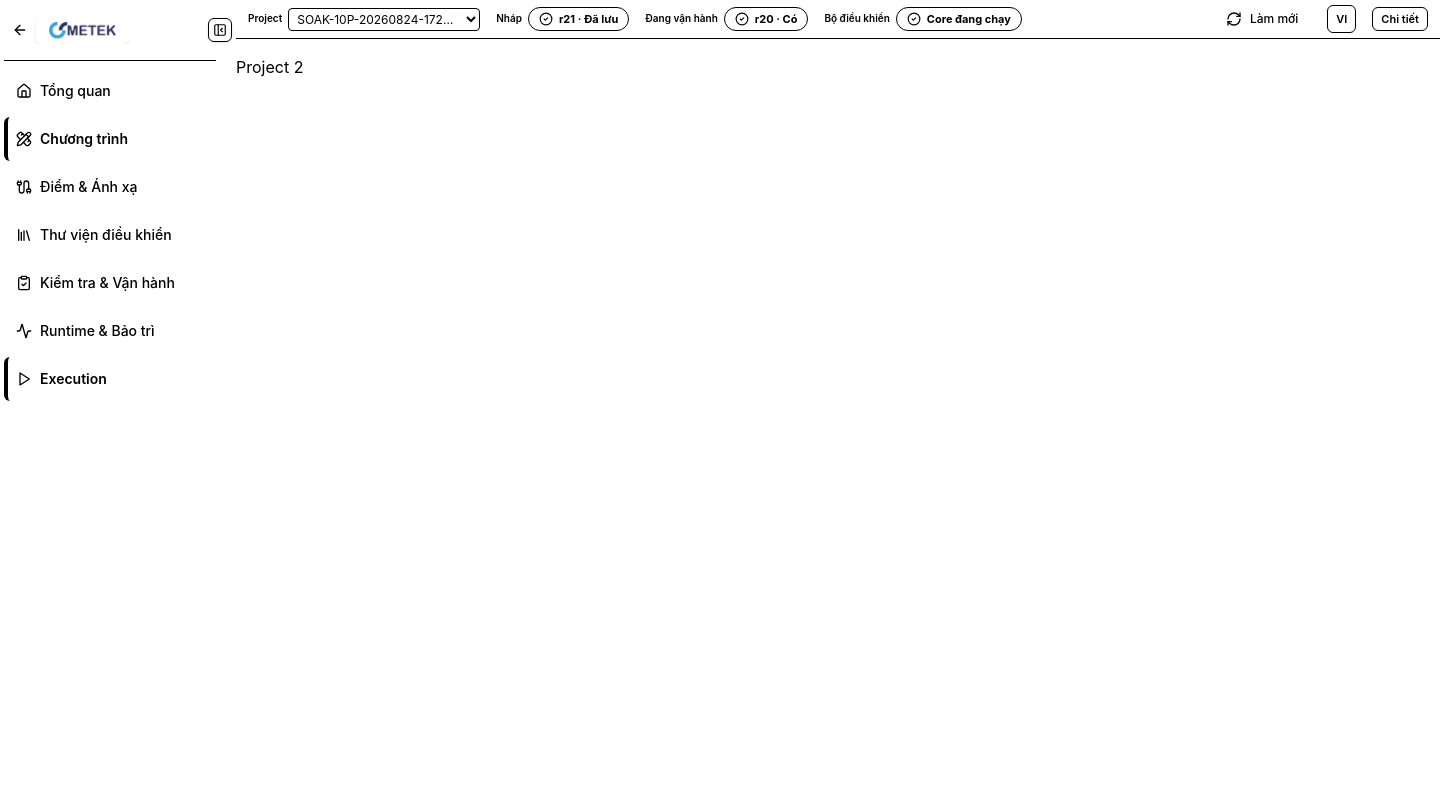
ProgrammingLayout — ISS-PGUI-01 › mở ĐÚNG Project đang chạy ⇒ giữ nguyên số hiệu và UUID như cũ
Check: the element with test id "programming-context-strip-row" is shown, box [248,0,1428,38]
Check: the element showing "Đang vận hành r20 · Có" is shown, box [645,7,808,31]
Click the button "Chi tiết": (1400, 19) [1372,7,1428,31]
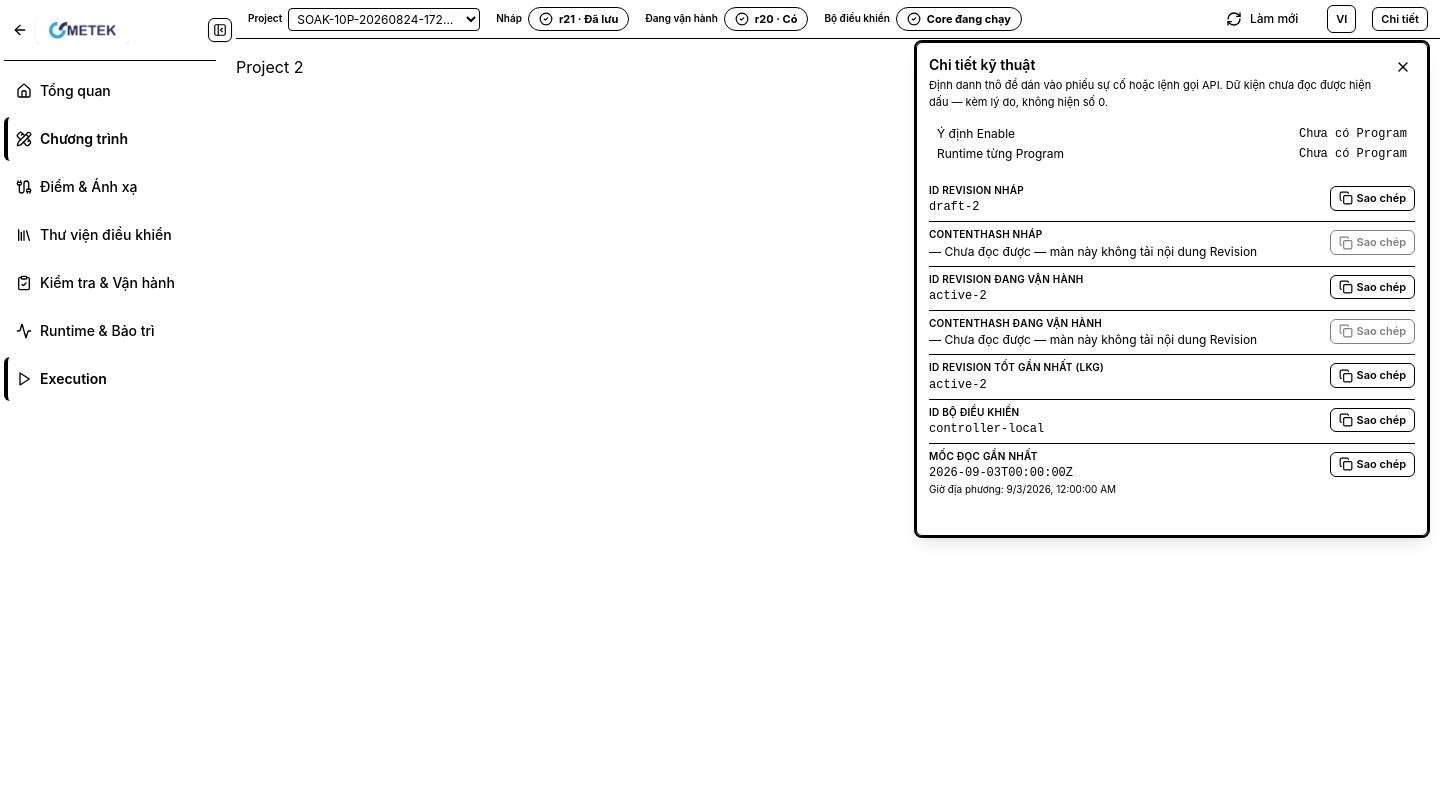
Check: the element showing "ID Revision đang vận hành active-2 Sao chép" is shown, box [929,267,1415,311]
